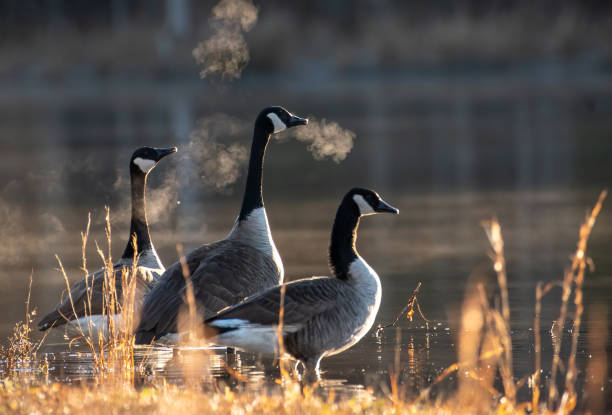goose: (134, 101, 317, 361), (207, 187, 405, 382), (37, 141, 184, 358)
